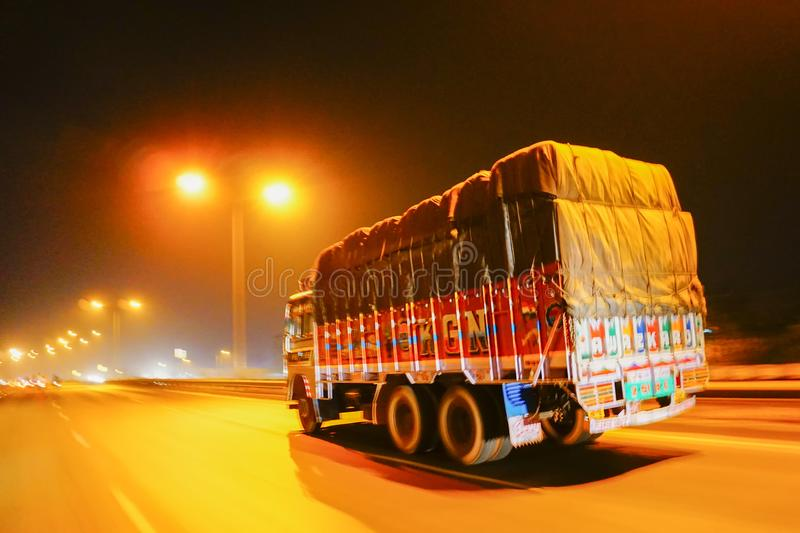truck: (284, 161, 695, 467)
